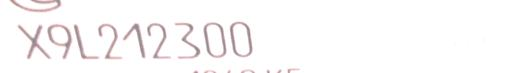letter: (462, 11, 492, 58), (170, 18, 202, 59), (374, 14, 402, 59), (287, 15, 315, 60), (315, 15, 343, 60), (258, 15, 286, 60), (18, 23, 52, 60), (343, 15, 371, 58), (402, 15, 430, 58), (71, 21, 101, 60), (96, 21, 126, 60), (227, 19, 255, 58), (146, 22, 174, 59), (45, 23, 73, 60), (201, 19, 227, 58), (434, 14, 458, 55), (122, 22, 148, 59)
